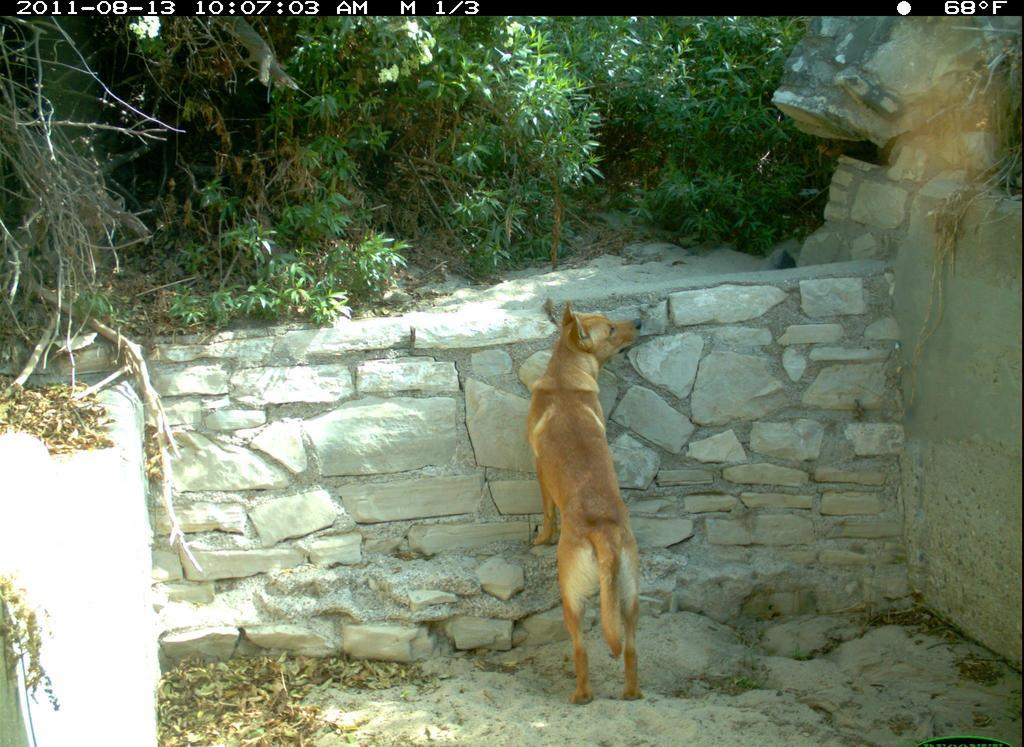dog: (519, 268, 669, 712)
